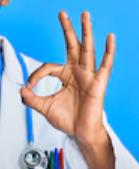left: (19, 9, 120, 131)
